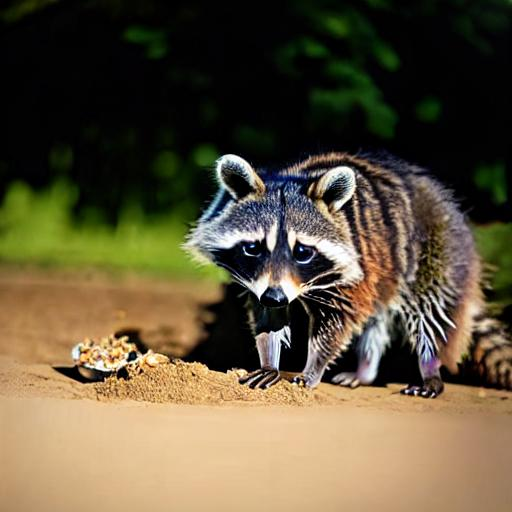raccoon: (182, 143, 512, 394)
